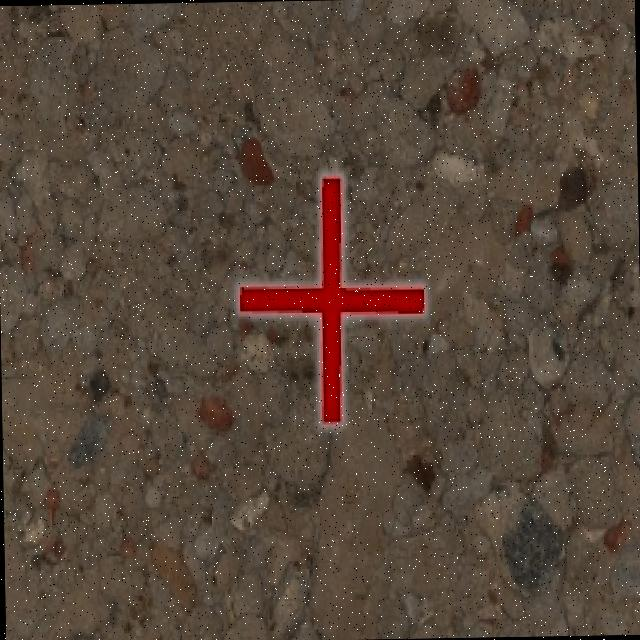x_marker: (236, 173, 424, 424)
